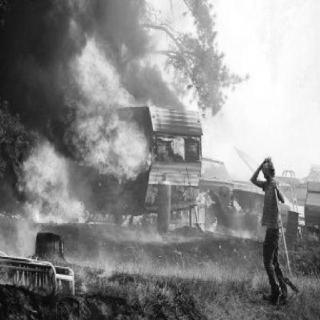Fire: (18, 6, 142, 228), (115, 183, 227, 234), (162, 125, 200, 163)
Smoke: (7, 4, 65, 137)
